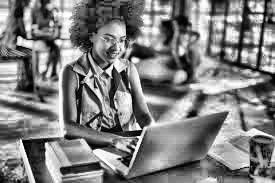happy: (79, 0, 144, 82)
